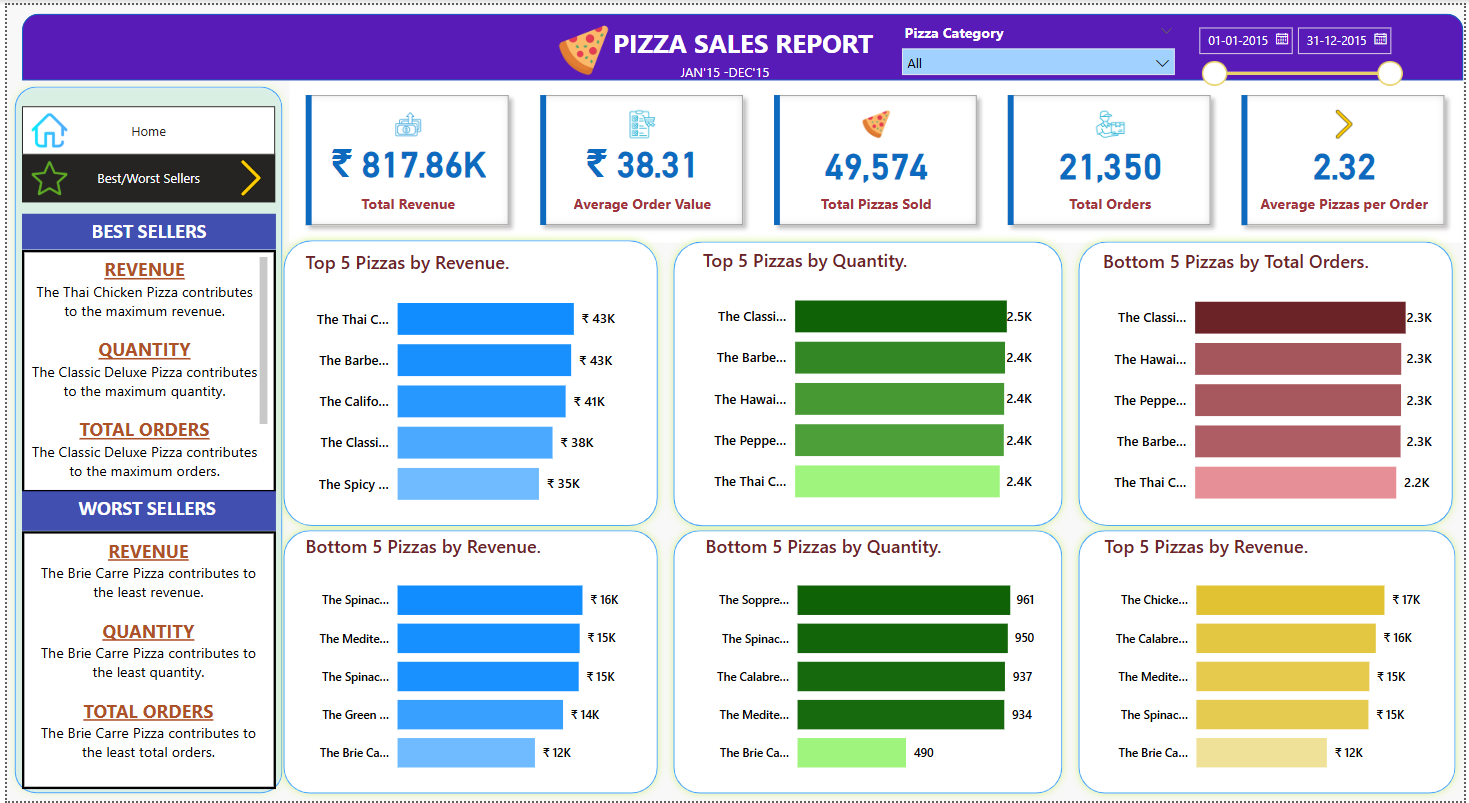

The page's visual inventory and layout, read from the dashboard file:
{"tool":"powerbi","page":{"name":"Best/Worst Sellers","canvas":[1500,820],"ordinal":1},"visuals":[{"type":"shape","box":[0,76.3,291.6,744],"z":0},{"type":"cardVisual","fields":{"Data":["pizzadb pizza_sales.Total Revenue","pizzadb pizza_sales.Average Order Value","pizzadb pizza_sales.Total Pizzas Sold","pizzadb pizza_sales.Total Orders","pizzadb pizza_sales.Average Pizzas per Order"]},"box":[291.6,76.3,1208.7,169],"z":1000},{"type":"shape","box":[15,8.8,1485,68.8],"z":2000},{"type":"textbox","box":[620,15,354.3,50.4],"z":3000},{"type":"textbox","box":[689.5,55.9,271.2,40.9],"z":4000},{"type":"image","box":[551.9,15,83.1,62.7],"z":5000},{"type":"shape","box":[276.6,234.4,402,310.7],"z":6000},{"type":"shape","box":[1095.6,235.7,402,309.3],"z":7000},{"type":"shape","box":[678.6,532.8,417,287.5],"z":8000},{"type":"shape","box":[276.6,532.8,402,287.5],"z":9000},{"type":"shape","box":[1095.6,532.8,404.7,287.5],"z":10000},{"type":"textbox","box":[15,215.3,261.6,36.8],"z":11000},{"type":"textbox","box":[15,252.1,261.6,249.4],"z":12000},{"type":"textbox","box":[15,501.5,261.6,40.9],"z":13000},{"type":"textbox","box":[15,542.3,261.6,265.7],"z":14000},{"type":"slicer","fields":{"Values":["pizzadb pizza_sales.pizza_category"]},"box":[911.6,12.3,301.1,61.3],"z":15000},{"type":"slicer","fields":{"Values":["pizzadb pizza_sales.order_date"]},"box":[1215.5,12.3,230.3,84.5],"z":16000},{"type":"shape","box":[678.6,235.7,417,309.3],"z":17000},{"type":"barChart","title":"Top 5 Pizzas by Revenue.","fields":{"Category":["pizzadb pizza_sales.pizza_name"],"Y":["pizzadb pizza_sales.Total Revenue"]},"box":[302.5,252.1,348.8,280.7],"z":18000},{"type":"barChart","title":"Bottom 5 Pizzas by Revenue.","fields":{"Category":["pizzadb pizza_sales.pizza_name"],"Y":["pizzadb pizza_sales.Total Revenue"]},"box":[302.5,545.1,348.8,263],"z":19000},{"type":"barChart","title":"Top 5 Pizzas by Quantity.","fields":{"Category":["pizzadb pizza_sales.pizza_name"],"Y":["pizzadb pizza_sales.Total Pizzas Sold"]},"box":[712.7,249.4,348.8,280.7],"z":20000},{"type":"barChart","title":"Bottom 5 Pizzas by Total Orders.","fields":{"Category":["pizzadb pizza_sales.pizza_name"],"Y":["pizzadb pizza_sales.Total Orders"]},"box":[1124.2,250.7,348.8,280.7],"z":21000},{"type":"barChart","title":"Top 5 Pizzas by Revenue.","fields":{"Category":["pizzadb pizza_sales.pizza_name"],"Y":["pizzadb pizza_sales.Total Revenue"]},"box":[1125.4,544.7,349,262.7],"z":22000},{"type":"barChart","title":"Bottom 5 Pizzas by Quantity.","fields":{"Category":["pizzadb pizza_sales.pizza_name"],"Y":["pizzadb pizza_sales.Total Pizzas Sold"]},"box":[714,545.1,348.8,263],"z":23000},{"type":"image","box":[105.6,153.2,300,47.6],"z":24000},{"type":"pageNavigator","box":[15.5,153.2,261.4,50.2],"z":25000},{"type":"pageNavigator","box":[15.5,104.3,261.4,50.2],"z":26000},{"type":"image","box":[225.3,154.5,51.5,47.6],"z":27000},{"type":"image","box":[20.6,104.3,46.4,50.2],"z":28000},{"type":"image","box":[20.6,151.9,46.4,52.8],"z":29000}]}

Visuals, with their boxes in screenshot pixels (x1, y1, x2, y2), scaled from the page's 1500x820 canvas onto the 1469x803 screenshot:
shape: bbox=(0, 75, 286, 802)
cardVisual - pizzadb pizza_sales.Total Revenue x pizzadb pizza_sales.Average Order Value: bbox=(286, 75, 1468, 240)
shape: bbox=(15, 9, 1468, 76)
textbox: bbox=(607, 15, 954, 64)
textbox: bbox=(675, 55, 941, 95)
image: bbox=(540, 15, 622, 76)
shape: bbox=(271, 230, 665, 534)
shape: bbox=(1073, 231, 1467, 534)
shape: bbox=(665, 522, 1073, 802)
shape: bbox=(271, 522, 665, 802)
shape: bbox=(1073, 522, 1468, 802)
textbox: bbox=(15, 211, 271, 247)
textbox: bbox=(15, 247, 271, 491)
textbox: bbox=(15, 491, 271, 531)
textbox: bbox=(15, 531, 271, 791)
slicer - pizzadb pizza_sales.pizza_category: bbox=(893, 12, 1188, 72)
slicer - pizzadb pizza_sales.order_date: bbox=(1190, 12, 1416, 95)
shape: bbox=(665, 231, 1073, 534)
"Top 5 Pizzas by Revenue." barChart: bbox=(296, 247, 638, 522)
"Bottom 5 Pizzas by Revenue." barChart: bbox=(296, 534, 638, 791)
"Top 5 Pizzas by Quantity." barChart: bbox=(698, 244, 1040, 519)
"Bottom 5 Pizzas by Total Orders." barChart: bbox=(1101, 246, 1443, 520)
"Top 5 Pizzas by Revenue." barChart: bbox=(1102, 533, 1444, 791)
"Bottom 5 Pizzas by Quantity." barChart: bbox=(699, 534, 1041, 791)
image: bbox=(103, 150, 397, 197)
pageNavigator: bbox=(15, 150, 271, 199)
pageNavigator: bbox=(15, 102, 271, 151)
image: bbox=(221, 151, 271, 198)
image: bbox=(20, 102, 66, 151)
image: bbox=(20, 149, 66, 200)
